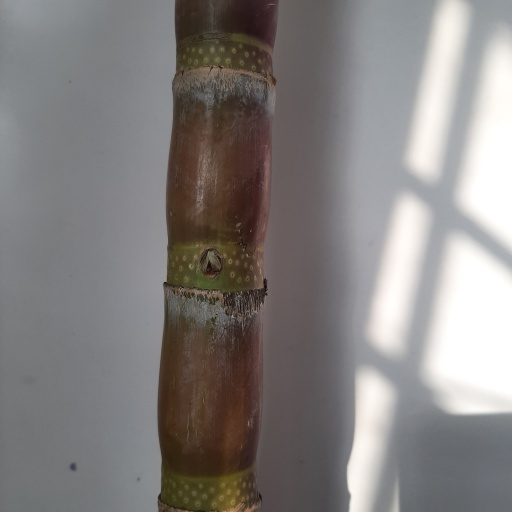Bud: (196, 249, 224, 279)
